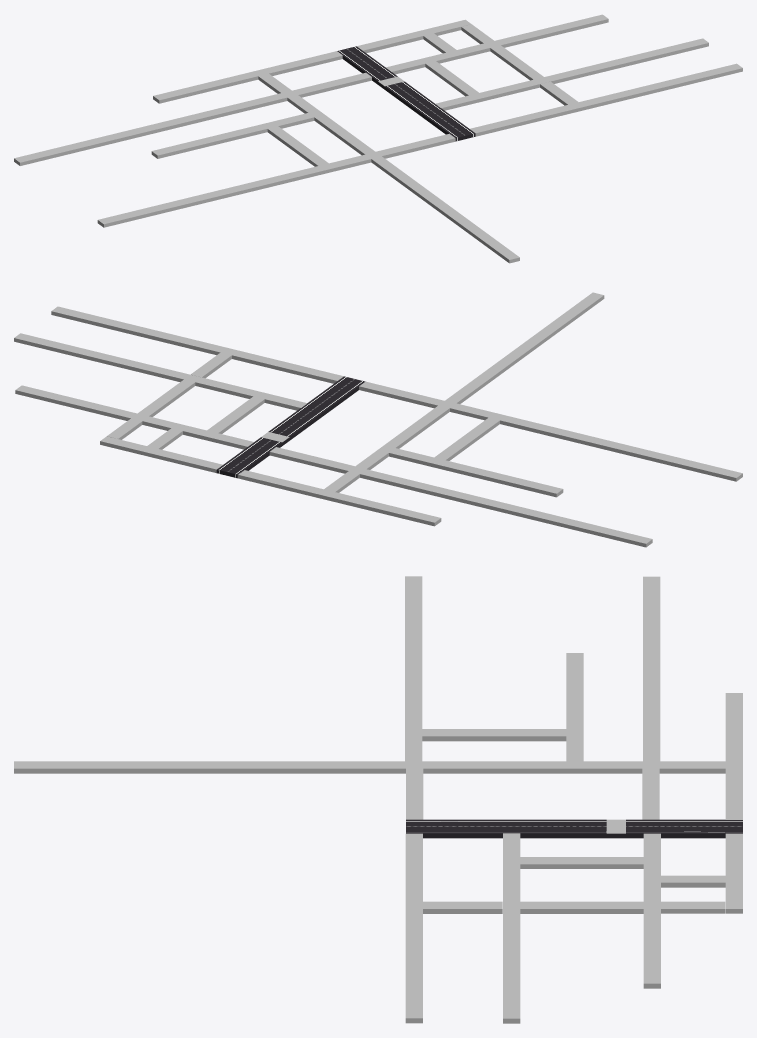
File: mapa2.fbx
3 renders of one model, top to bottom at view 1: azimuth 30°, elevation 25°; view 2: azimuth 150°, elevation 25°; view 3: azimuth 270°, elevation 25°, orthographic. The views are drawn at different scales.
Visible parts, largest first — view 1: Cube.005, Cube.032, Cube.028, Cube.037, Cube.031, Cube.013, Cube.027, Cube.034, Cube.029, Cube.035, Cube.030, Cube.033 (+3 smaller); view 2: Cube.005, Cube.028, Cube.037, Cube.032, Cube.031, Cube.013, Cube.027, Cube.034, Cube.029, Cube.035, Cube.030, Cube.033 (+4 smaller); view 3: Cube.005, Cube.037, Cube.013, Cube.031, Cube.028, Cube.032, Cube.027, Cube.034, Cube.029, Cube.026, Cube.023, Cube.024 (+6 smaller).
Part boxes in pixels (box(x1,y1,x2,y2)): Cube.005: box(258, 73, 519, 263); Cube.032: box(97, 154, 371, 227); Cube.028: box(14, 93, 287, 165); Cube.037: box(337, 46, 475, 141); Cube.031: box(470, 63, 742, 136); Cube.013: box(435, 38, 708, 110); Cube.027: box(386, 14, 608, 74); Cube.034: box(153, 51, 342, 103); Cube.029: box(151, 113, 314, 158); Cube.035: box(357, 19, 471, 53); Cube.030: box(376, 133, 455, 158); Cube.033: box(292, 72, 371, 97); Cube.005: box(324, 292, 604, 492); Cube.028: box(360, 469, 652, 547); Cube.037: box(216, 376, 365, 478); Cube.032: box(450, 403, 742, 481); Cube.031: box(51, 306, 343, 383); Cube.013: box(14, 333, 307, 410); Cube.027: box(15, 385, 253, 449); Cube.034: box(237, 470, 441, 526); Cube.029: box(389, 448, 563, 497); Cube.035: box(100, 436, 222, 472); Cube.030: box(359, 381, 444, 408); Cube.033: box(269, 447, 354, 473); Cube.005: box(14, 761, 725, 773); Cube.037: box(406, 819, 742, 838); Cube.013: box(503, 833, 520, 1023); Cube.031: box(405, 833, 422, 1023); Cube.028: box(643, 576, 660, 761); Cube.032: box(405, 576, 422, 761); Cube.027: box(643, 833, 660, 988); Cube.034: box(725, 693, 742, 819); Cube.029: box(566, 653, 583, 761); Cube.026: box(422, 729, 566, 741); Cube.023: box(520, 901, 643, 913); Cube.024: box(520, 857, 643, 868).
Size of the model in its own units: 38858 by 200 by 27059.
